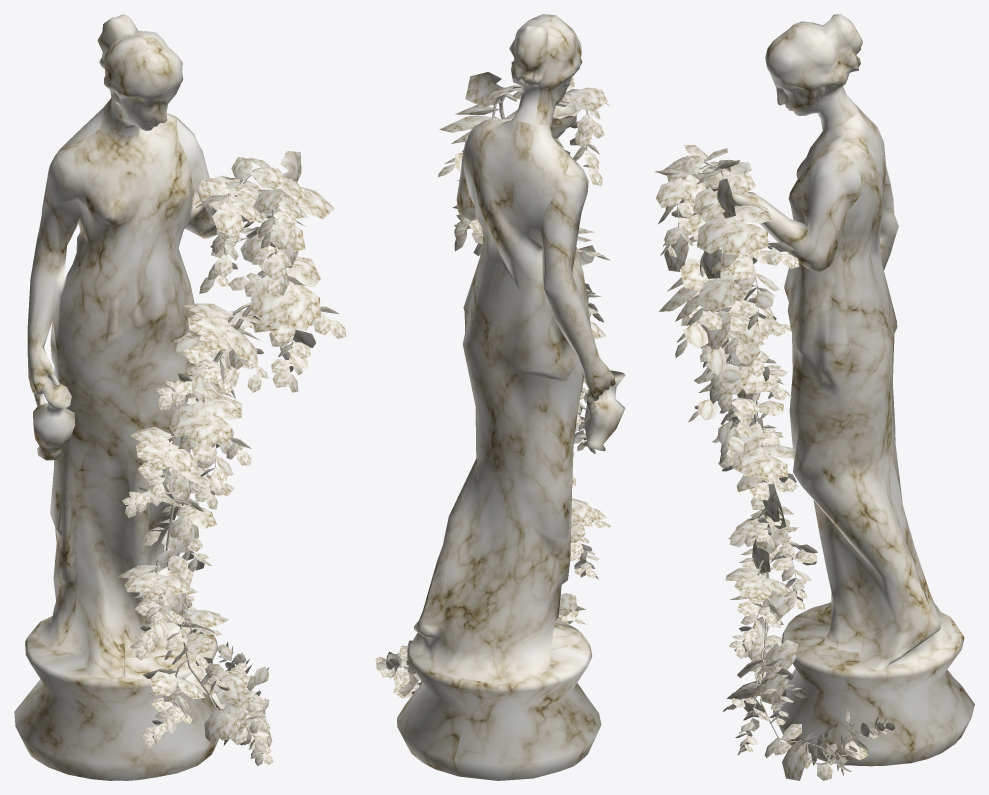
The model's file is estatua.obj.
3 views of the same model, side by side, from view 1: azimuth 30°, elevation 25°; view 2: azimuth 150°, elevation 25°; view 3: azimuth 270°, elevation 25° (orthographic). The views are drawn at different scales.
Visible parts, largest first — view 1: statue_statue_statue, statue_statue_leafage; view 2: statue_statue_statue, statue_statue_leafage; view 3: statue_statue_statue, statue_statue_leafage.
Part boxes in pixels (x1,y1,x2,y2): statue_statue_statue: (14, 14, 321, 780); statue_statue_leafage: (117, 151, 346, 765); statue_statue_statue: (386, 14, 625, 780); statue_statue_leafage: (375, 72, 610, 698); statue_statue_statue: (677, 14, 974, 766); statue_statue_leafage: (654, 144, 895, 780).
Bounding box in the file's own units: 1.67 × 4.82 × 1.98.
